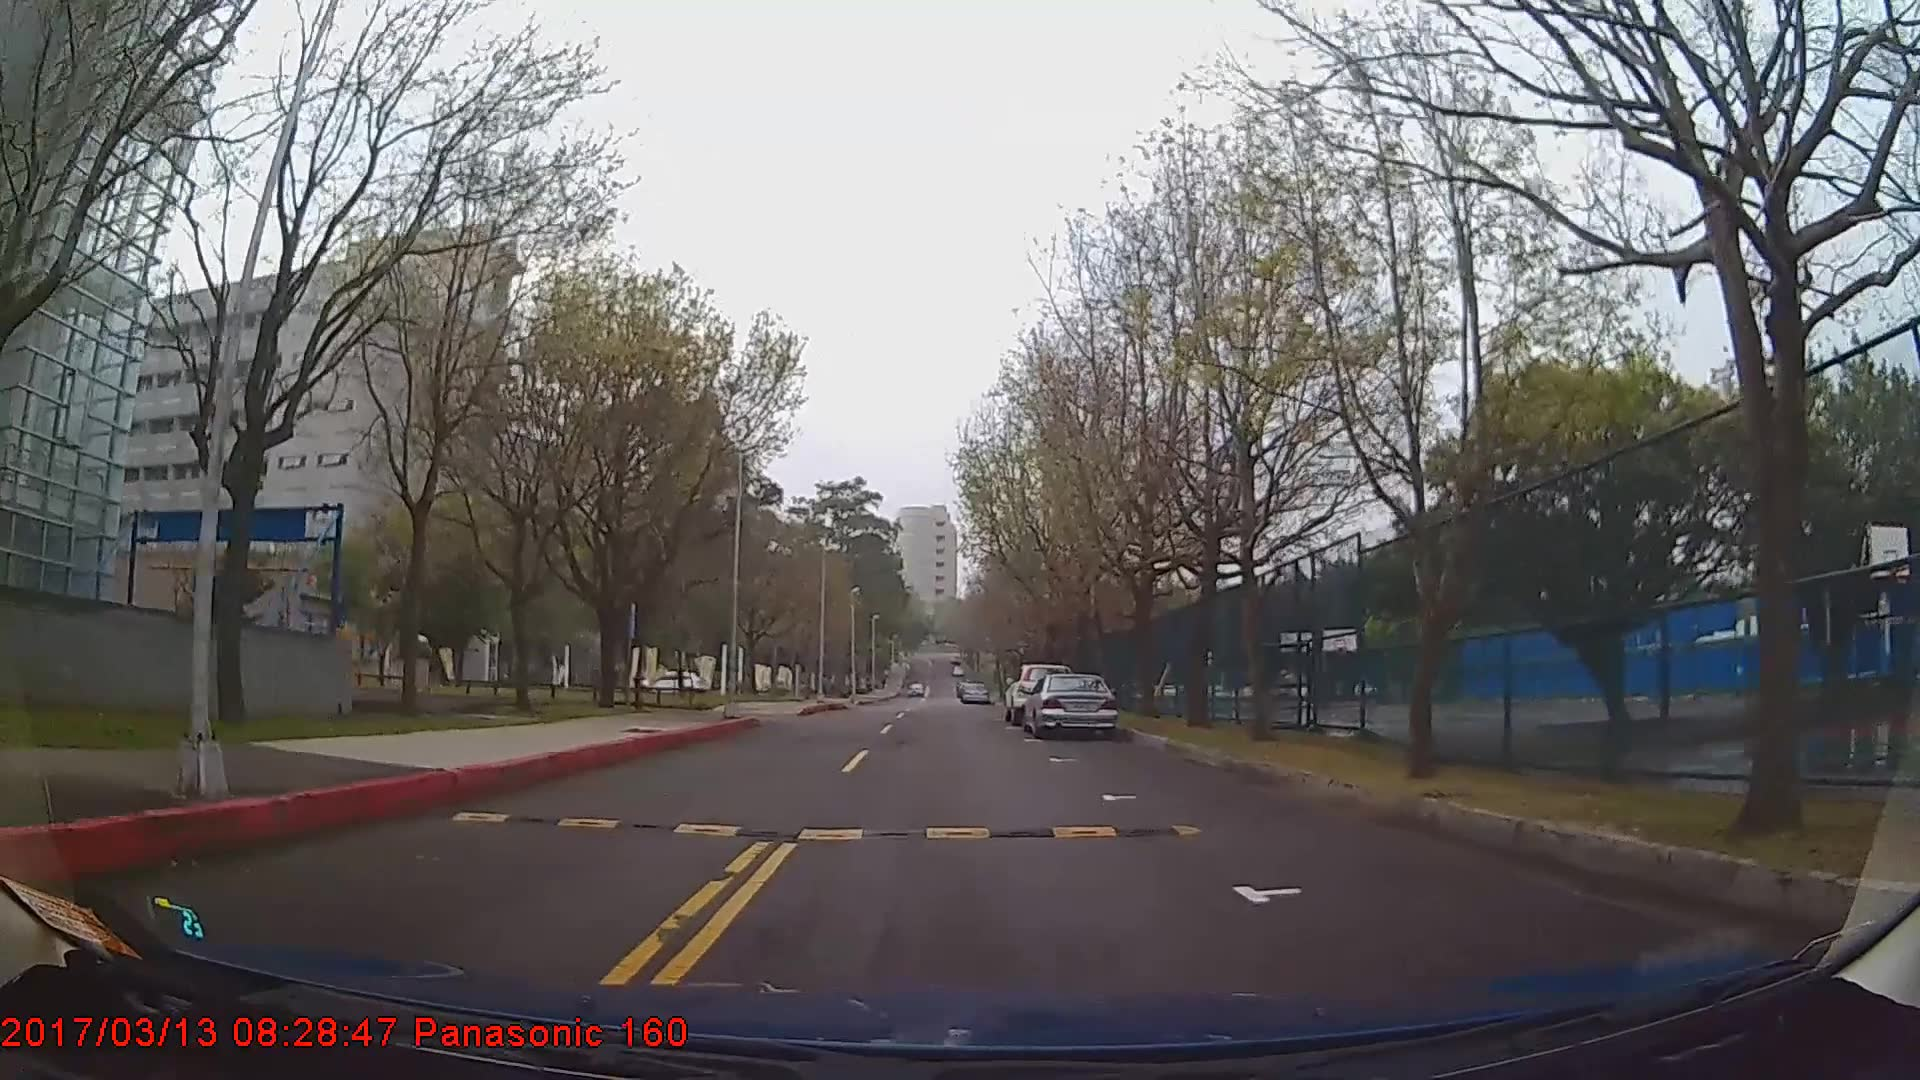vehicle: (1022, 673, 1121, 740), (1005, 665, 1073, 731), (957, 680, 986, 704)
